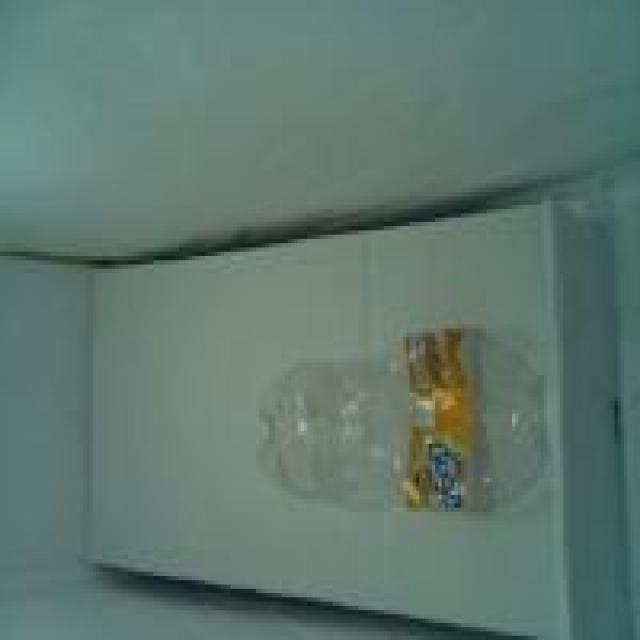bottle: (232, 309, 585, 542)
